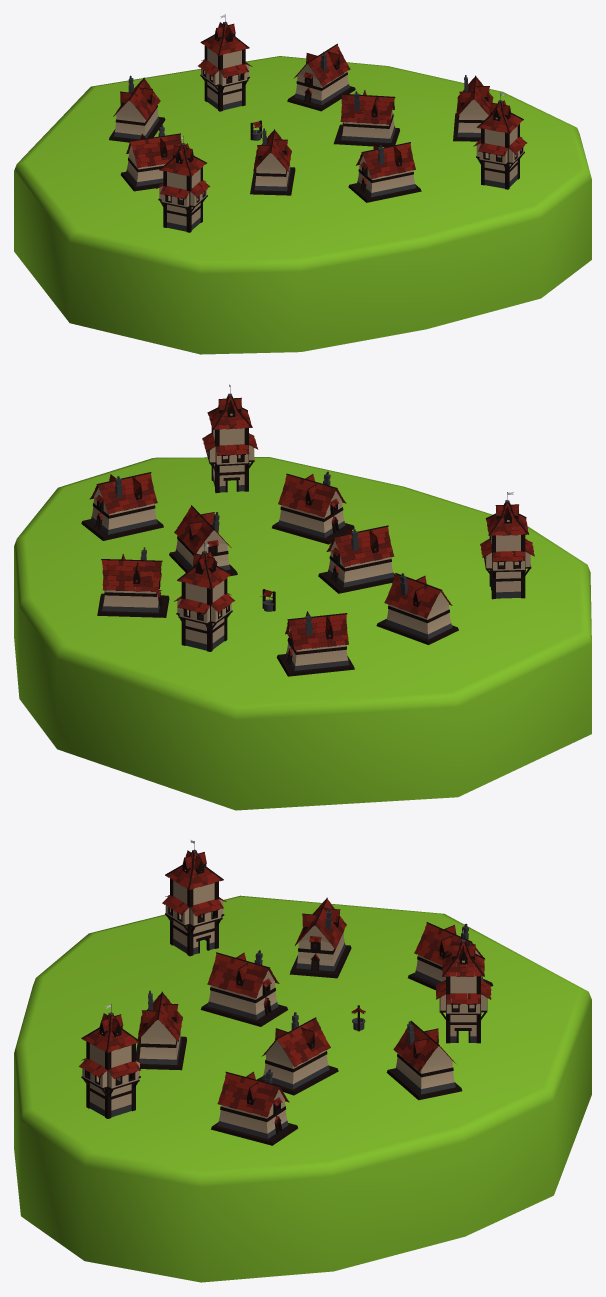
The model's file is Village.FBX.
3 renders of one model, top to bottom at view 1: azimuth 30°, elevation 25°; view 2: azimuth 150°, elevation 25°; view 3: azimuth 270°, elevation 25°, orthographic. The views are drawn at different scales.
Parts seen in each view (by area): view 1: Circle002, Plane014, Plane106, Plane061, Box052, Box035, Box001, Box080, Box072, Box088, Box104, Box020 (+9 smaller); view 2: Circle002, Plane076, Plane091, Plane106, Plane136, Box064, Plane121, Box001, Plane061, Box088, Box096, Box104 (+9 smaller); view 3: Circle002, Plane121, Plane136, Box072, Box020, Box052, Box104, Box035, Box096, Box088, Plane014, Box064 (+8 smaller).
Boxes of the visible parts, left/top/right/bottom form: Circle002: left=14, top=56, right=591, bottom=354; Plane014: left=340, top=94, right=394, bottom=124; Plane106: left=356, top=143, right=415, bottom=178; Plane061: left=126, top=134, right=181, bottom=167; Box052: left=484, top=117, right=517, bottom=188; Box035: left=167, top=160, right=200, bottom=231; Box001: left=207, top=48, right=241, bottom=110; Box080: left=114, top=100, right=159, bottom=139; Box072: left=294, top=64, right=349, bottom=105; Box088: left=356, top=155, right=416, bottom=197; Box104: left=254, top=153, right=290, bottom=191; Box020: left=341, top=108, right=395, bottom=142; Circle002: left=14, top=457, right=591, bottom=810; Plane076: left=102, top=560, right=161, bottom=591; Plane091: left=285, top=614, right=348, bottom=650; Plane106: left=278, top=475, right=346, bottom=517; Plane136: left=326, top=526, right=394, bottom=566; Box064: left=385, top=592, right=452, bottom=639; Plane121: left=89, top=473, right=157, bottom=514; Box001: left=185, top=580, right=224, bottom=650; Plane061: left=384, top=574, right=452, bottom=618; Box088: left=278, top=491, right=345, bottom=537; Box096: left=90, top=487, right=157, bottom=534; Box104: left=327, top=541, right=394, bottom=587; Circle002: left=14, top=895, right=591, bottom=1282; Plane121: left=217, top=1073, right=289, bottom=1117; Plane136: left=207, top=953, right=279, bottom=998; Box072: left=395, top=1046, right=455, bottom=1094; Box020: left=262, top=1040, right=329, bottom=1089; Box052: left=90, top=1033, right=131, bottom=1117; Box104: left=207, top=970, right=278, bottom=1020; Box035: left=173, top=870, right=214, bottom=954; Box096: left=217, top=1089, right=288, bottom=1138; Box088: left=139, top=1020, right=181, bottom=1064; Plane014: left=262, top=1018, right=330, bottom=1067; Box064: left=296, top=925, right=345, bottom=971.
Bounding box in the file's own units: 6116 × 2112 × 5244.
